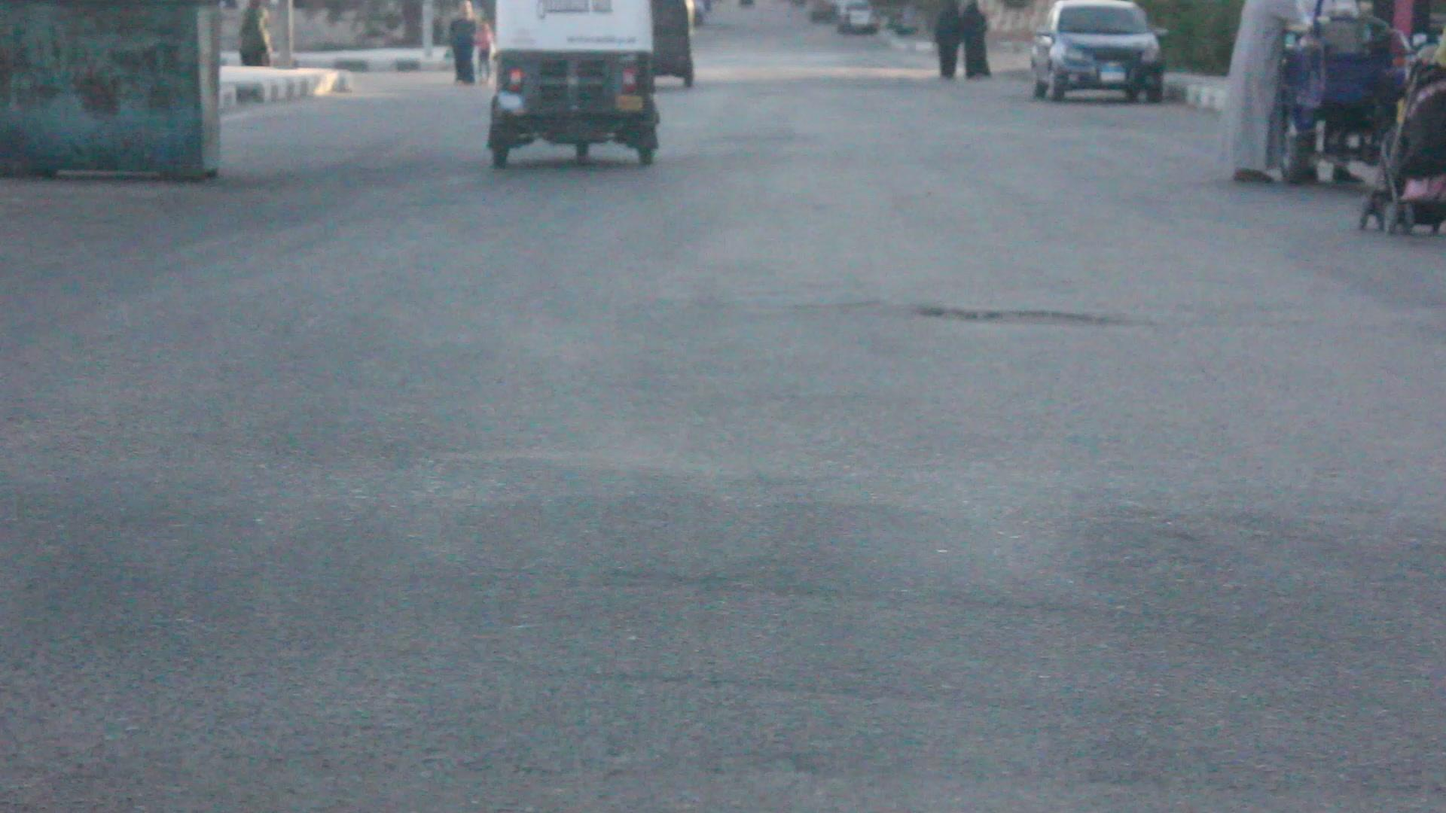Bump: (0, 449, 1444, 696)
